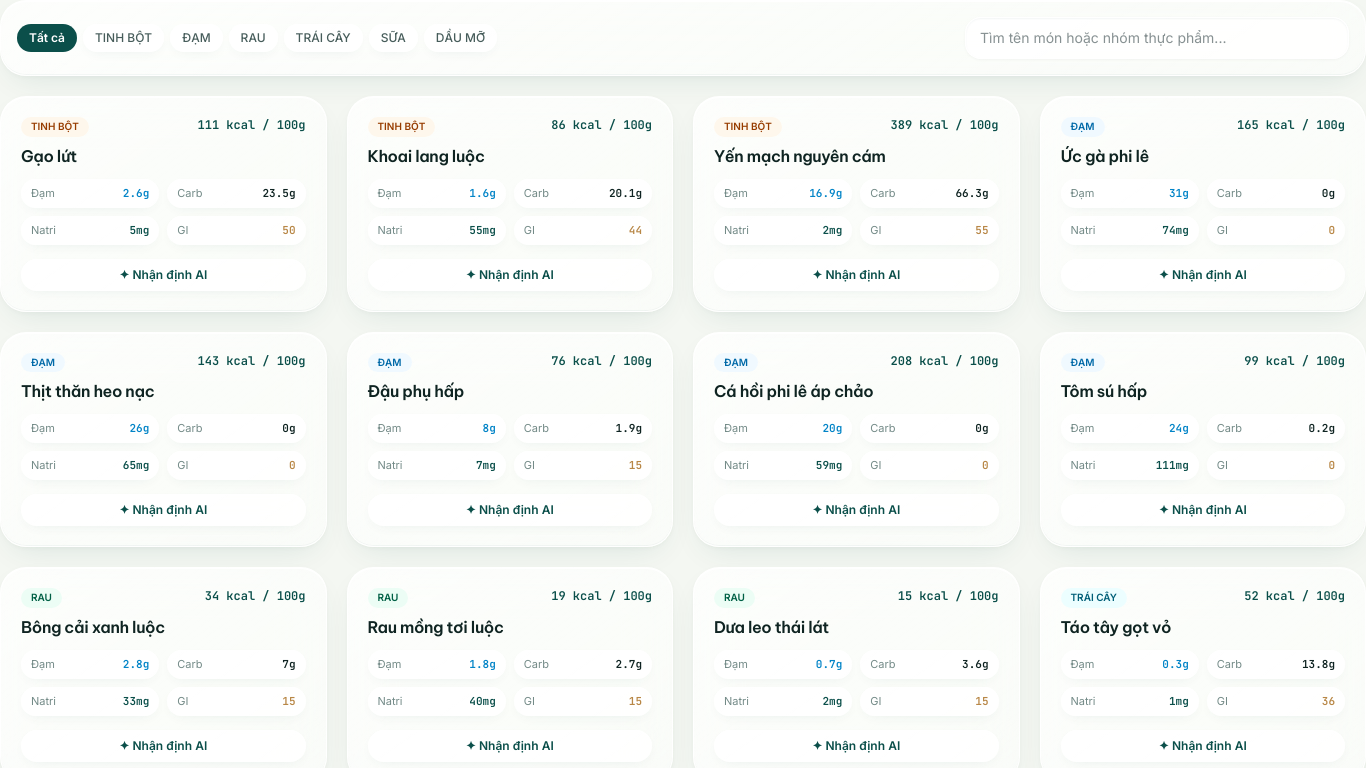
Test: UI › shows empty state when nothing matches
Type "zzzz" into the field named "Tìm thực phẩm" at (1157, 38), box [965,17,1349,59]
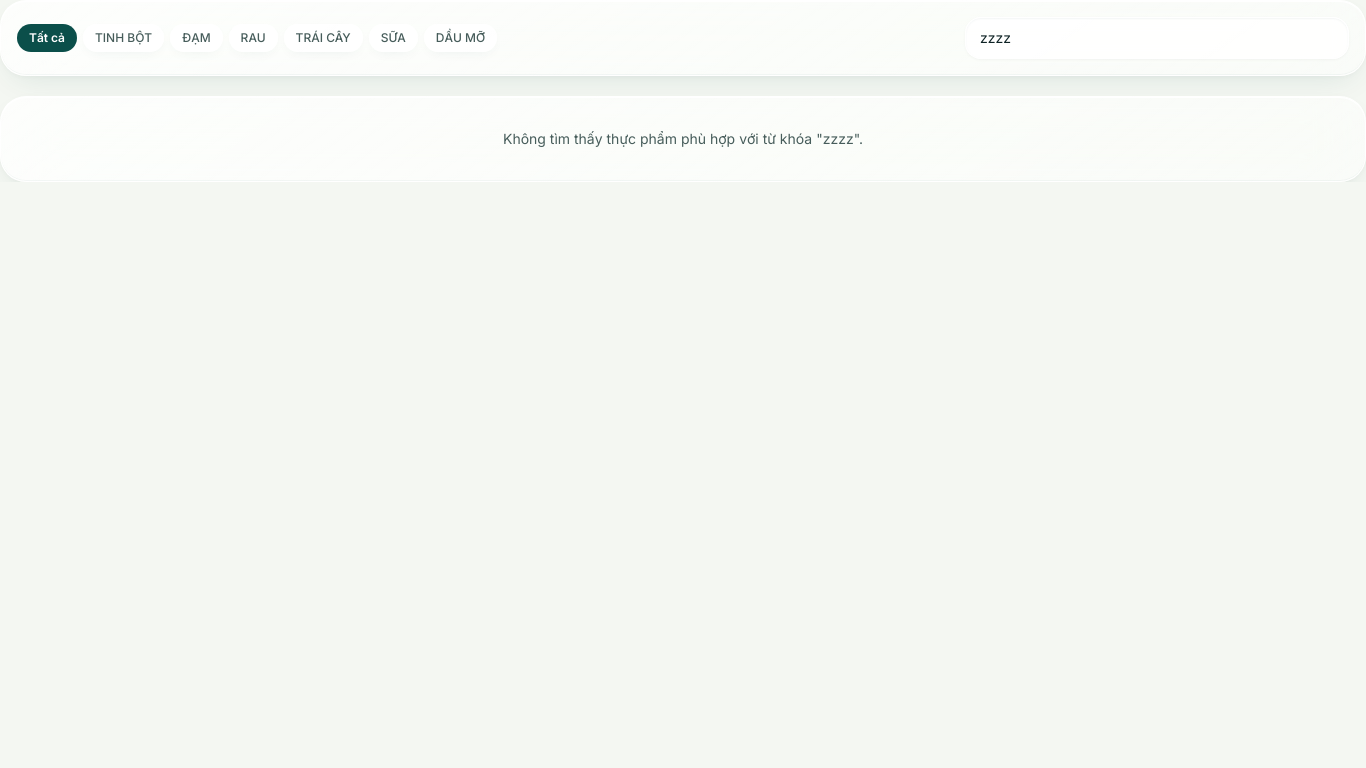
expect the text "Không tìm thấy thực phẩm phù hợp với từ khóa \"zzzz\"." is shown: met, box [0,96,1365,182]
